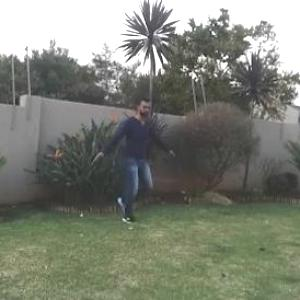land: (60, 81, 191, 241)
